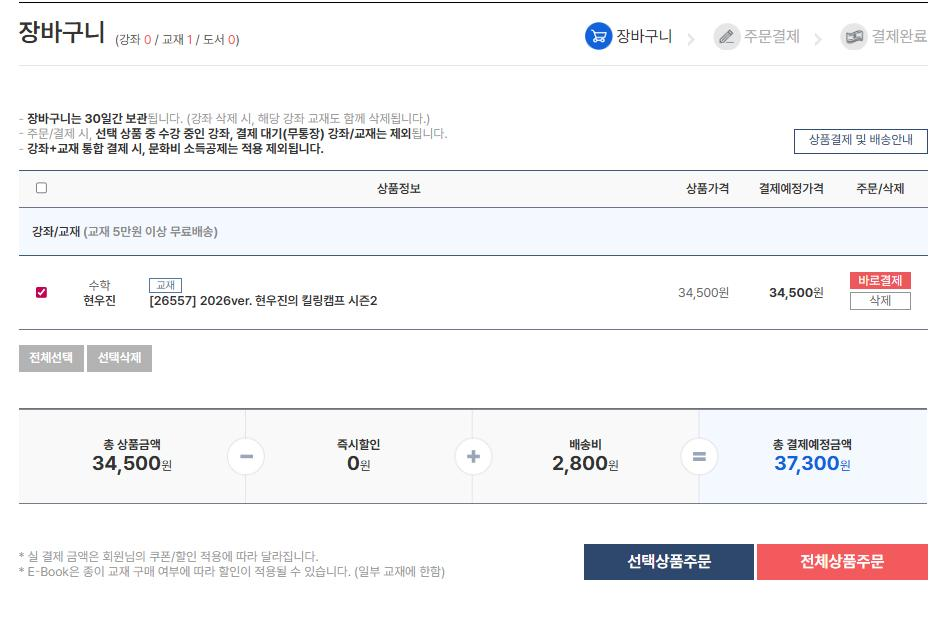button: (759, 544, 925, 582), (587, 544, 754, 581), (793, 133, 926, 151), (17, 345, 84, 371), (86, 345, 153, 371), (851, 292, 910, 312), (852, 272, 908, 286)
checkbox: (35, 182, 48, 196), (34, 288, 55, 295)
